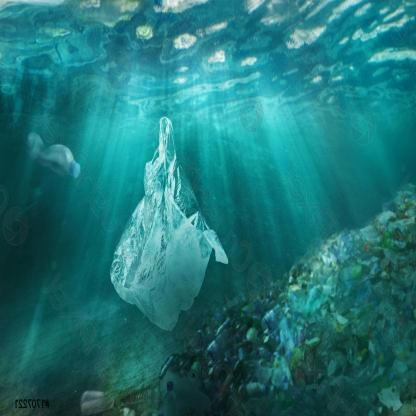pbag: (101, 111, 233, 339)
